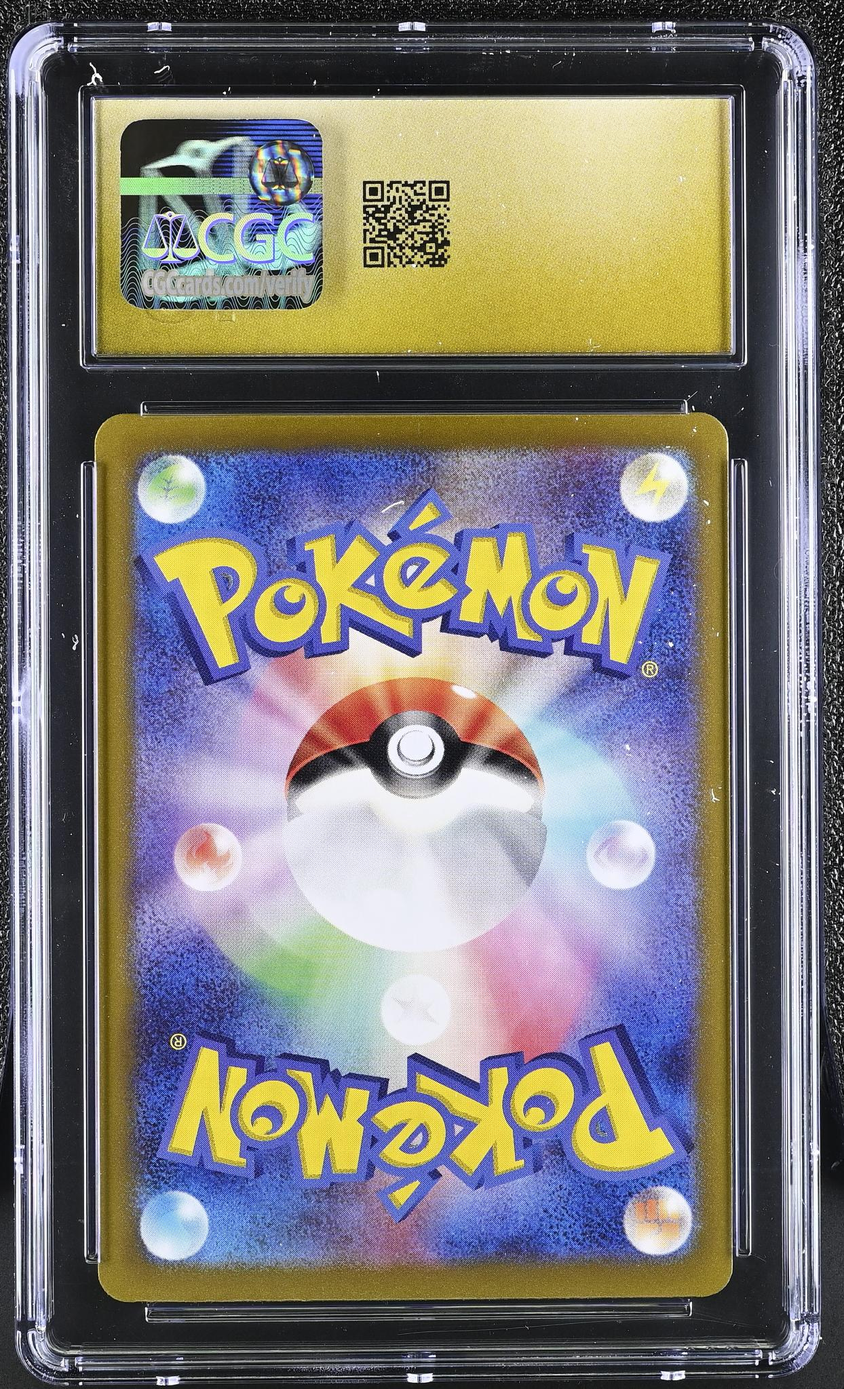card-2UtV: (94, 412, 733, 1303)
